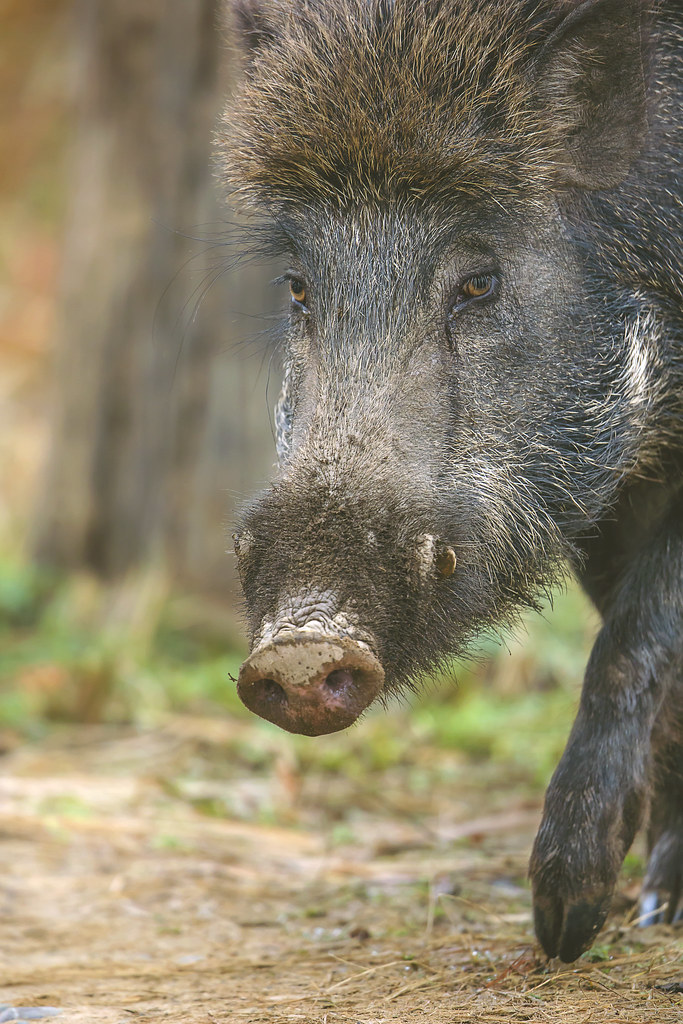wild boar: (125, 1, 683, 973)
